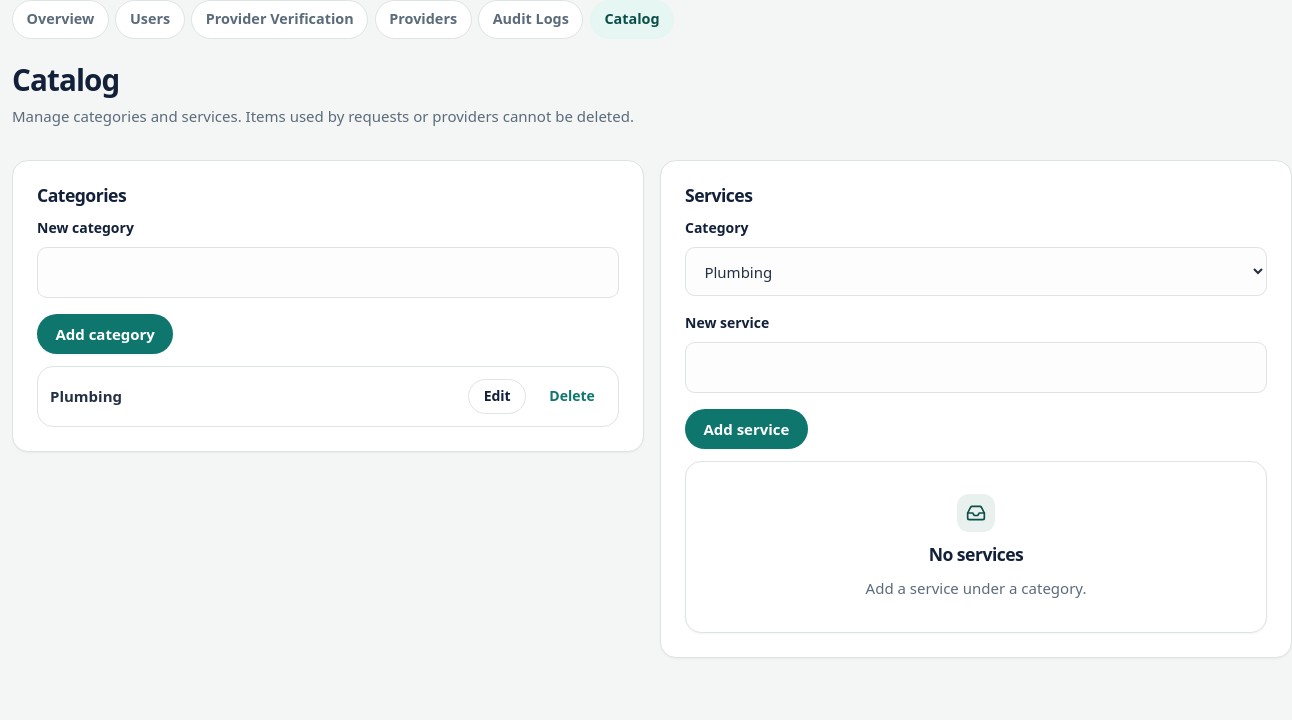
Test: AdminCatalogPage › maps category validation errors onto the name field
Type "Duplicate" into the field labelled "New category" at (328, 272), box [37,247,619,298]
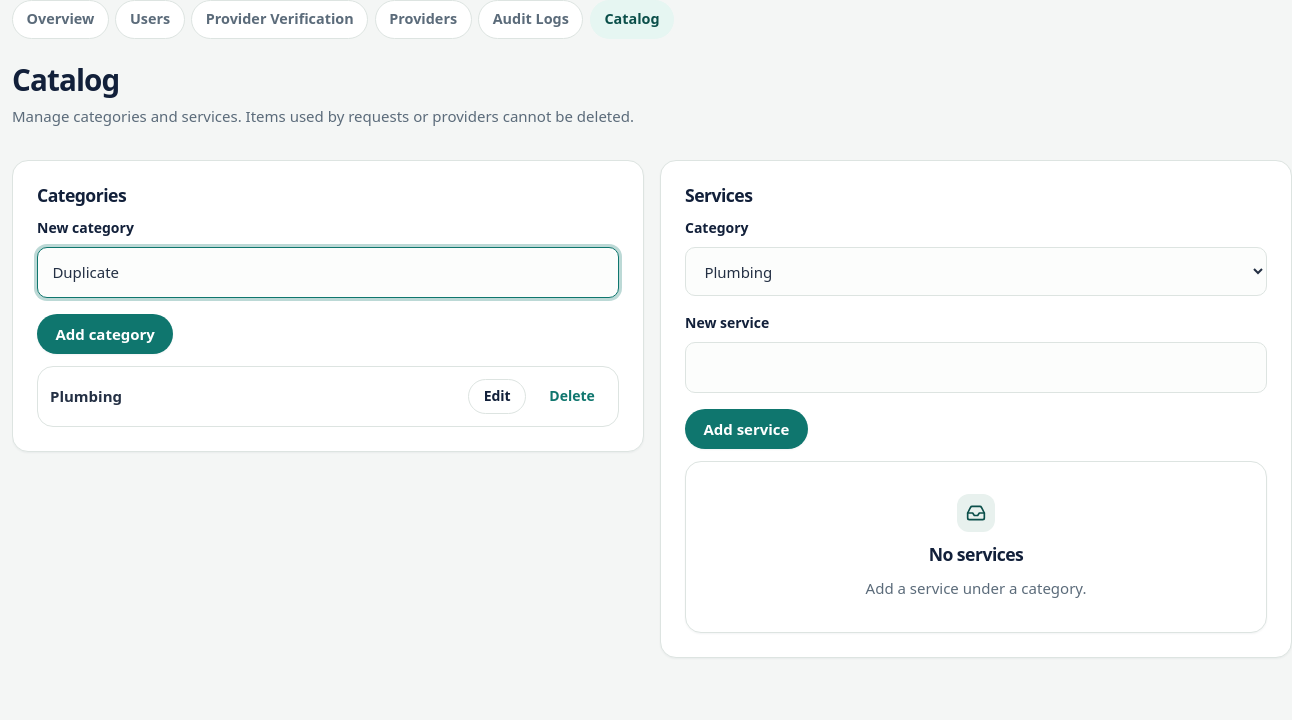
Click the button "Add category" at (105, 334), box [37,314,173,354]
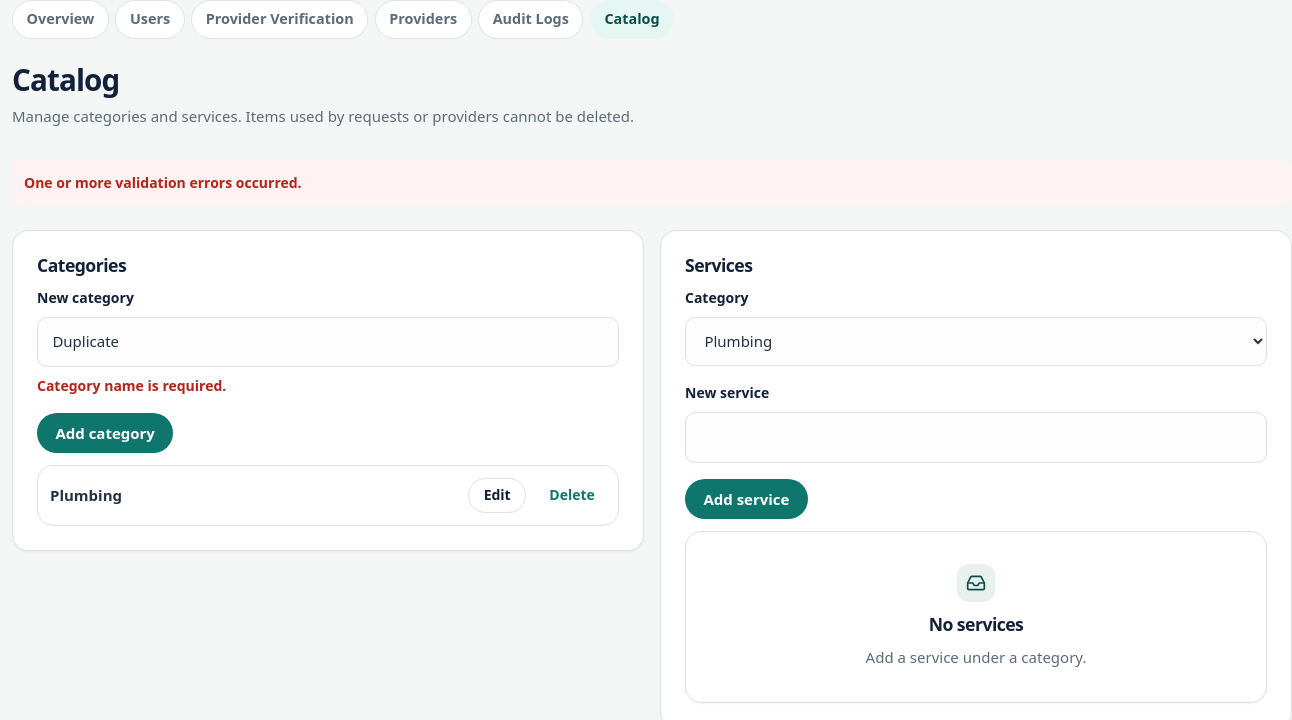
expect the text "Category name is required." is shown: met, box [37,376,226,395]
